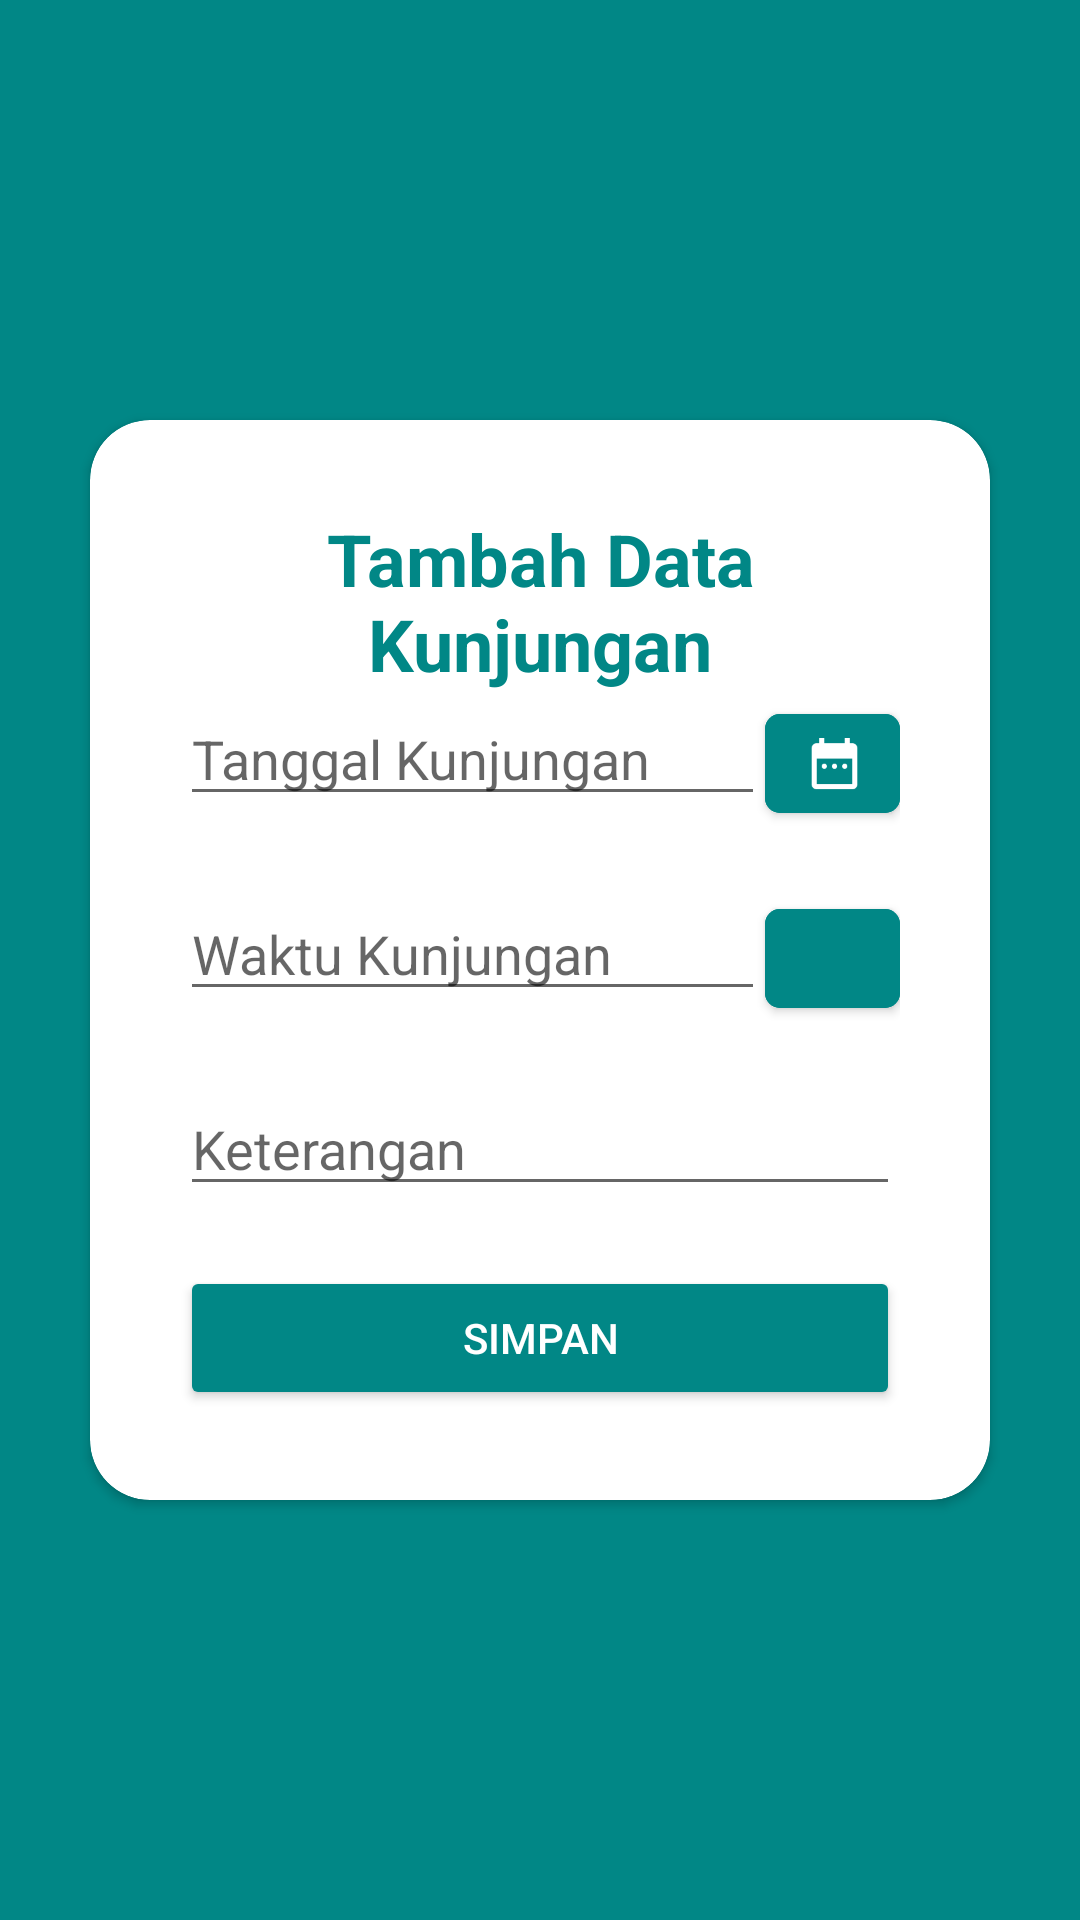

Screen size 1080*1920. Icon name, then its center in pixels as (x,y):
datepicker: (832,764)
